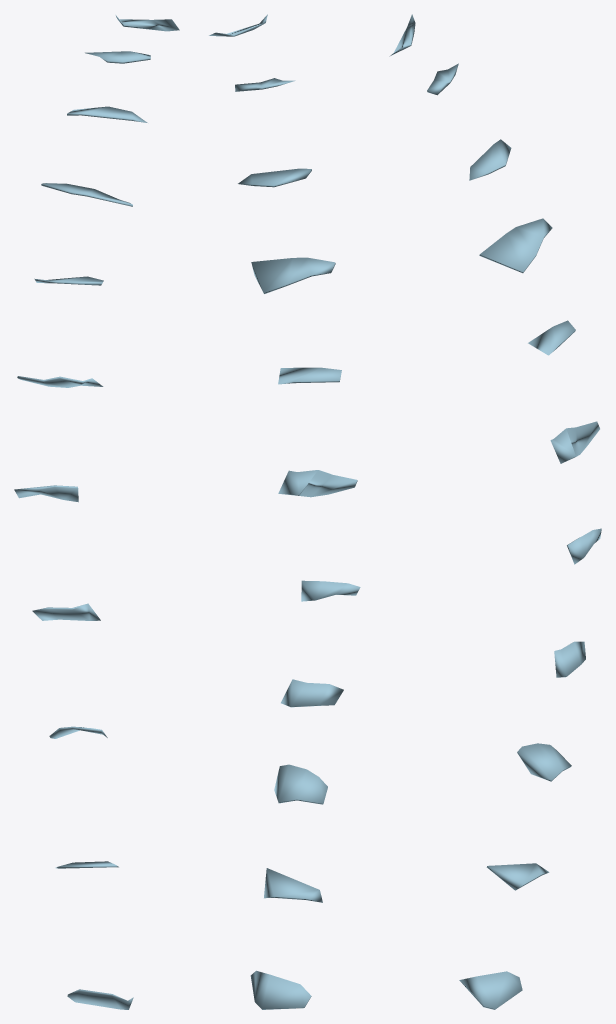
The model's file is articulacoes-costotransverse-ligament-r.glb.
The picture shows the model from 3 angles, left to right: view 1: azimuth 30°, elevation 25°; view 2: azimuth 210°, elevation 25°; view 3: azimuth 270°, elevation 25°; orthographic projection. The views are drawn at different scales.
Parts seen in each view (by area): view 1: Costotransverse ligament.r; view 2: Costotransverse ligament.r; view 3: Costotransverse ligament.r.
Part boxes in pixels (box(x1,y1,x2,y2)): Costotransverse ligament.r: box(14, 15, 179, 1009); Costotransverse ligament.r: box(209, 14, 360, 1009); Costotransverse ligament.r: box(389, 14, 601, 1009).
Size of the model in its own units: 0.02 by 0.2671 by 0.053.
